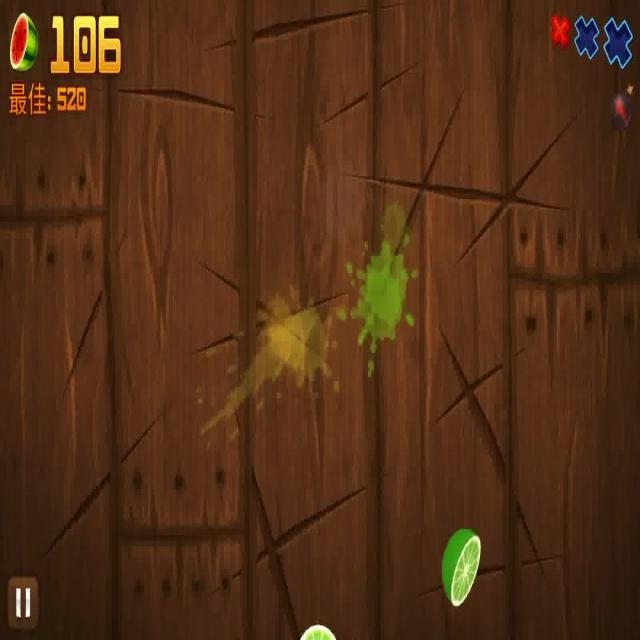fruit: (438, 530, 494, 608)
